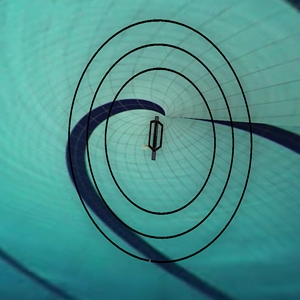circle: (55, 3, 268, 275)
submarine: (138, 112, 176, 163)
